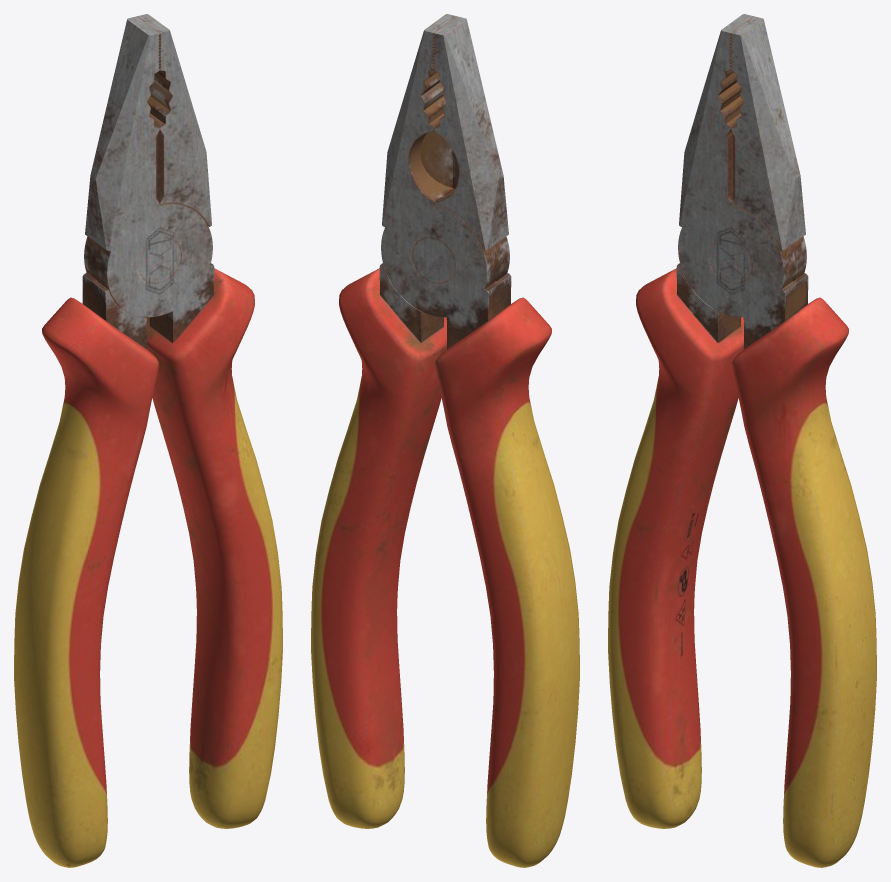
Rendered from pliers.glb.
3 views of the same model, side by side, from view 1: azimuth 30°, elevation 25°; view 2: azimuth 150°, elevation 25°; view 3: azimuth 330°, elevation 25° (orthographic).
Visible parts, largest first — view 1: pliers_b, pliers_a, pliers_pin; view 2: pliers_a, pliers_b, pliers_pin; view 3: pliers_b, pliers_a, pliers_pin.
Boxes of the visible parts, x1,y1,x2,y2 form: pliers_b: [85, 16, 282, 828]; pliers_a: [14, 14, 211, 867]; pliers_pin: [138, 237, 181, 283]; pliers_a: [381, 14, 579, 867]; pliers_b: [311, 16, 509, 828]; pliers_pin: [412, 237, 455, 283]; pliers_b: [678, 14, 876, 867]; pliers_a: [608, 16, 806, 828]; pliers_pin: [709, 237, 752, 283].
Bounding box in the file's own units: 0.0553 × 0.1798 × 0.018.
Materials: 1 (1 with a texture image).
